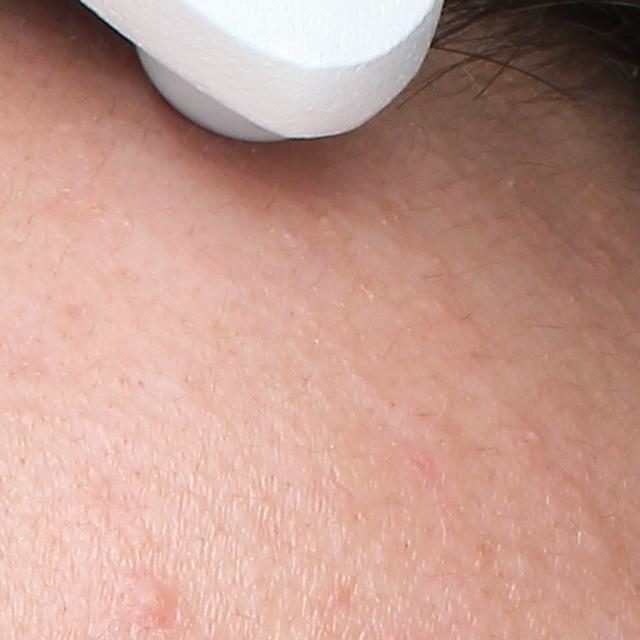papule: (131, 578, 180, 632)
